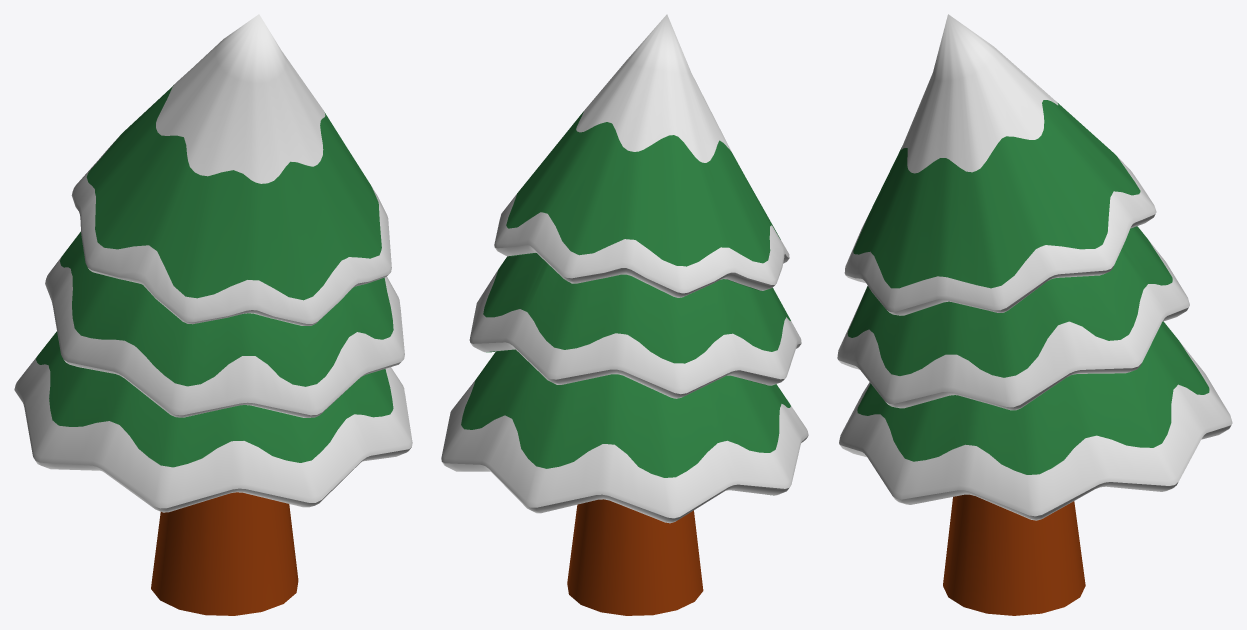
File: Pinheiro.glb
3 renders of one model, left to right at view 1: azimuth 30°, elevation 25°; view 2: azimuth 150°, elevation 25°; view 3: azimuth 270°, elevation 25°, orthographic. The views are drawn at different scales.
Parts seen in each view (by area): view 1: Cylinder.001, Cylinder; view 2: Cylinder.001, Cylinder; view 3: Cylinder.001, Cylinder.
Part boxes in pixels (bbox=[...]): Cylinder.001: bbox=[14, 14, 412, 512]; Cylinder: bbox=[151, 492, 298, 615]; Cylinder.001: bbox=[441, 14, 808, 523]; Cylinder: bbox=[567, 499, 703, 615]; Cylinder.001: bbox=[837, 14, 1232, 520]; Cylinder: bbox=[943, 494, 1085, 615].
Bounding box in the file's own units: 4.6 × 7.37 × 4.62.
Materials: 3 (2 with a texture image).
